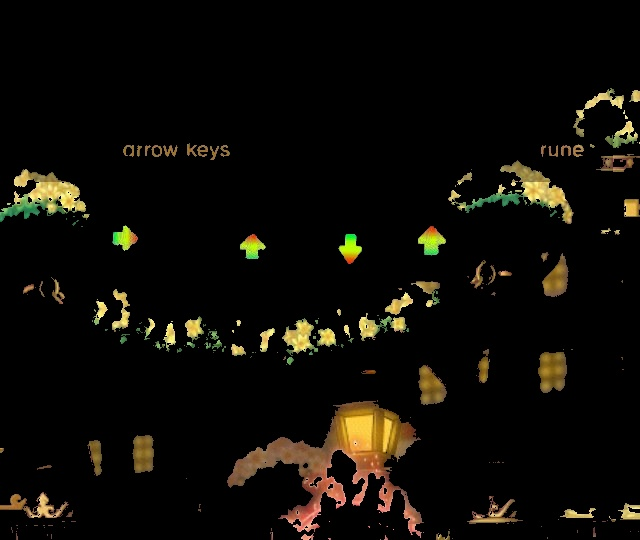down: (329, 226, 372, 273)
right: (104, 220, 143, 258)
up: (406, 219, 453, 265), (231, 227, 272, 271)
